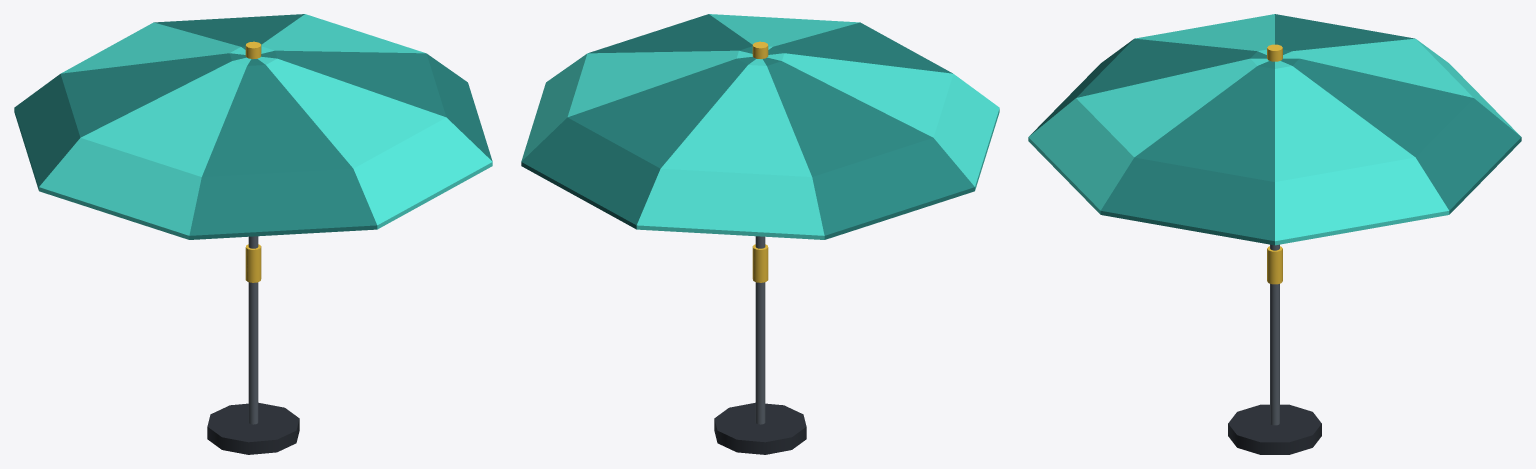
File: umbrella_open.glb
The picture shows the model from 3 angles, left to right: view 1: azimuth 30°, elevation 25°; view 2: azimuth 150°, elevation 25°; view 3: azimuth 270°, elevation 25°; orthographic projection.
Parts seen in each view (by area): view 1: _MeshInstance3D_4378, _MeshInstance3D_4376, _MeshInstance3D_4377, _MeshInstance3D_4396; view 2: _MeshInstance3D_4378, _MeshInstance3D_4376, _MeshInstance3D_4377, _MeshInstance3D_4396; view 3: _MeshInstance3D_4378, _MeshInstance3D_4376, _MeshInstance3D_4377, _MeshInstance3D_4396.
Boxes of the visible parts, x1,y1,x2,y2 form: _MeshInstance3D_4378: [14, 14, 492, 239]; _MeshInstance3D_4376: [207, 402, 299, 454]; _MeshInstance3D_4377: [248, 236, 258, 424]; _MeshInstance3D_4396: [245, 244, 261, 282]; _MeshInstance3D_4378: [521, 14, 999, 239]; _MeshInstance3D_4376: [714, 402, 806, 454]; _MeshInstance3D_4377: [755, 236, 765, 424]; _MeshInstance3D_4396: [752, 244, 768, 282]; _MeshInstance3D_4378: [1028, 14, 1521, 245]; _MeshInstance3D_4376: [1228, 404, 1321, 454]; _MeshInstance3D_4377: [1270, 244, 1279, 425]; _MeshInstance3D_4396: [1267, 246, 1282, 284].
Size of the model in its own units: 3 by 2.61 by 3.
